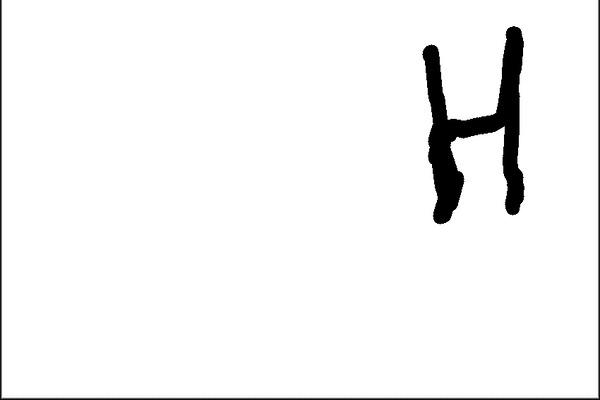H: (413, 22, 531, 222)
